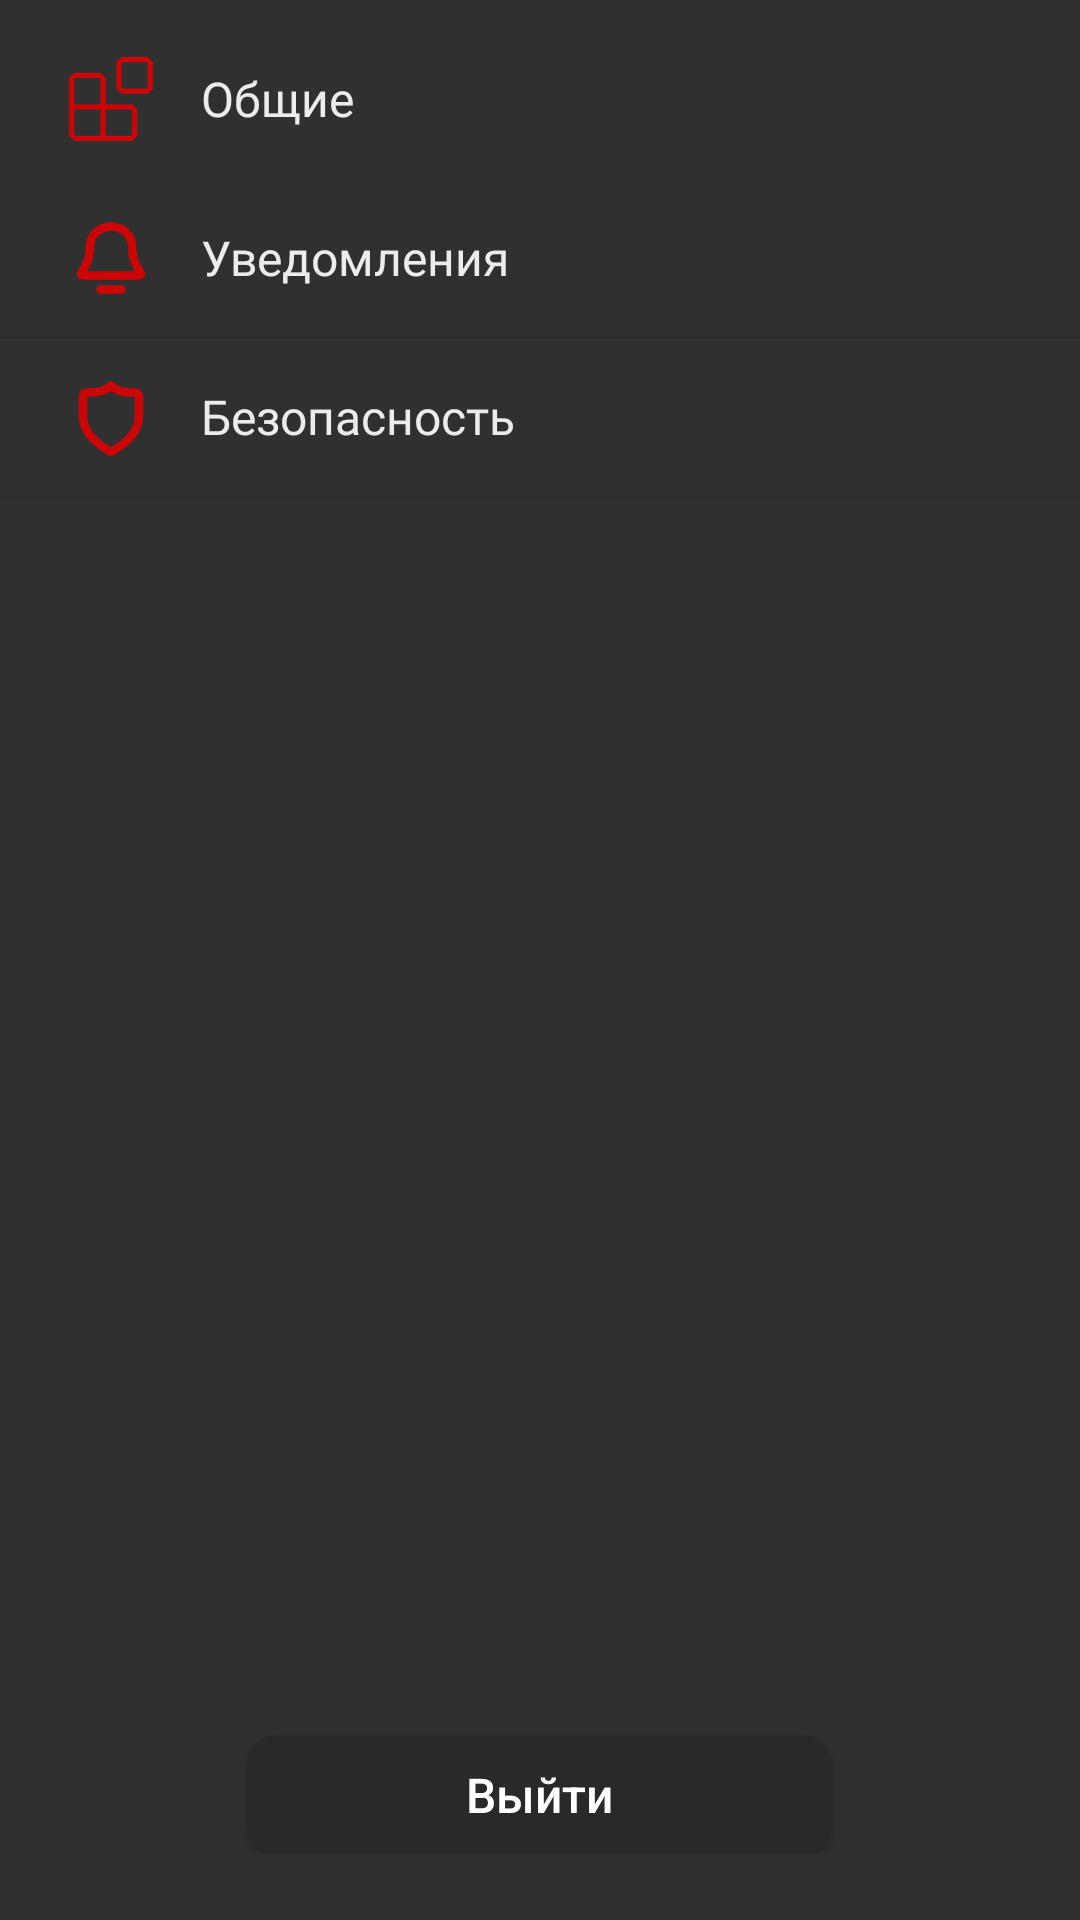

Locate icon controls on the screen. Image size 1080w x 1920h, boxes as (x1, y1, x2, y2).
bell: (76, 222, 146, 294)
extensions: (69, 57, 153, 141)
secure: (78, 381, 144, 456)
